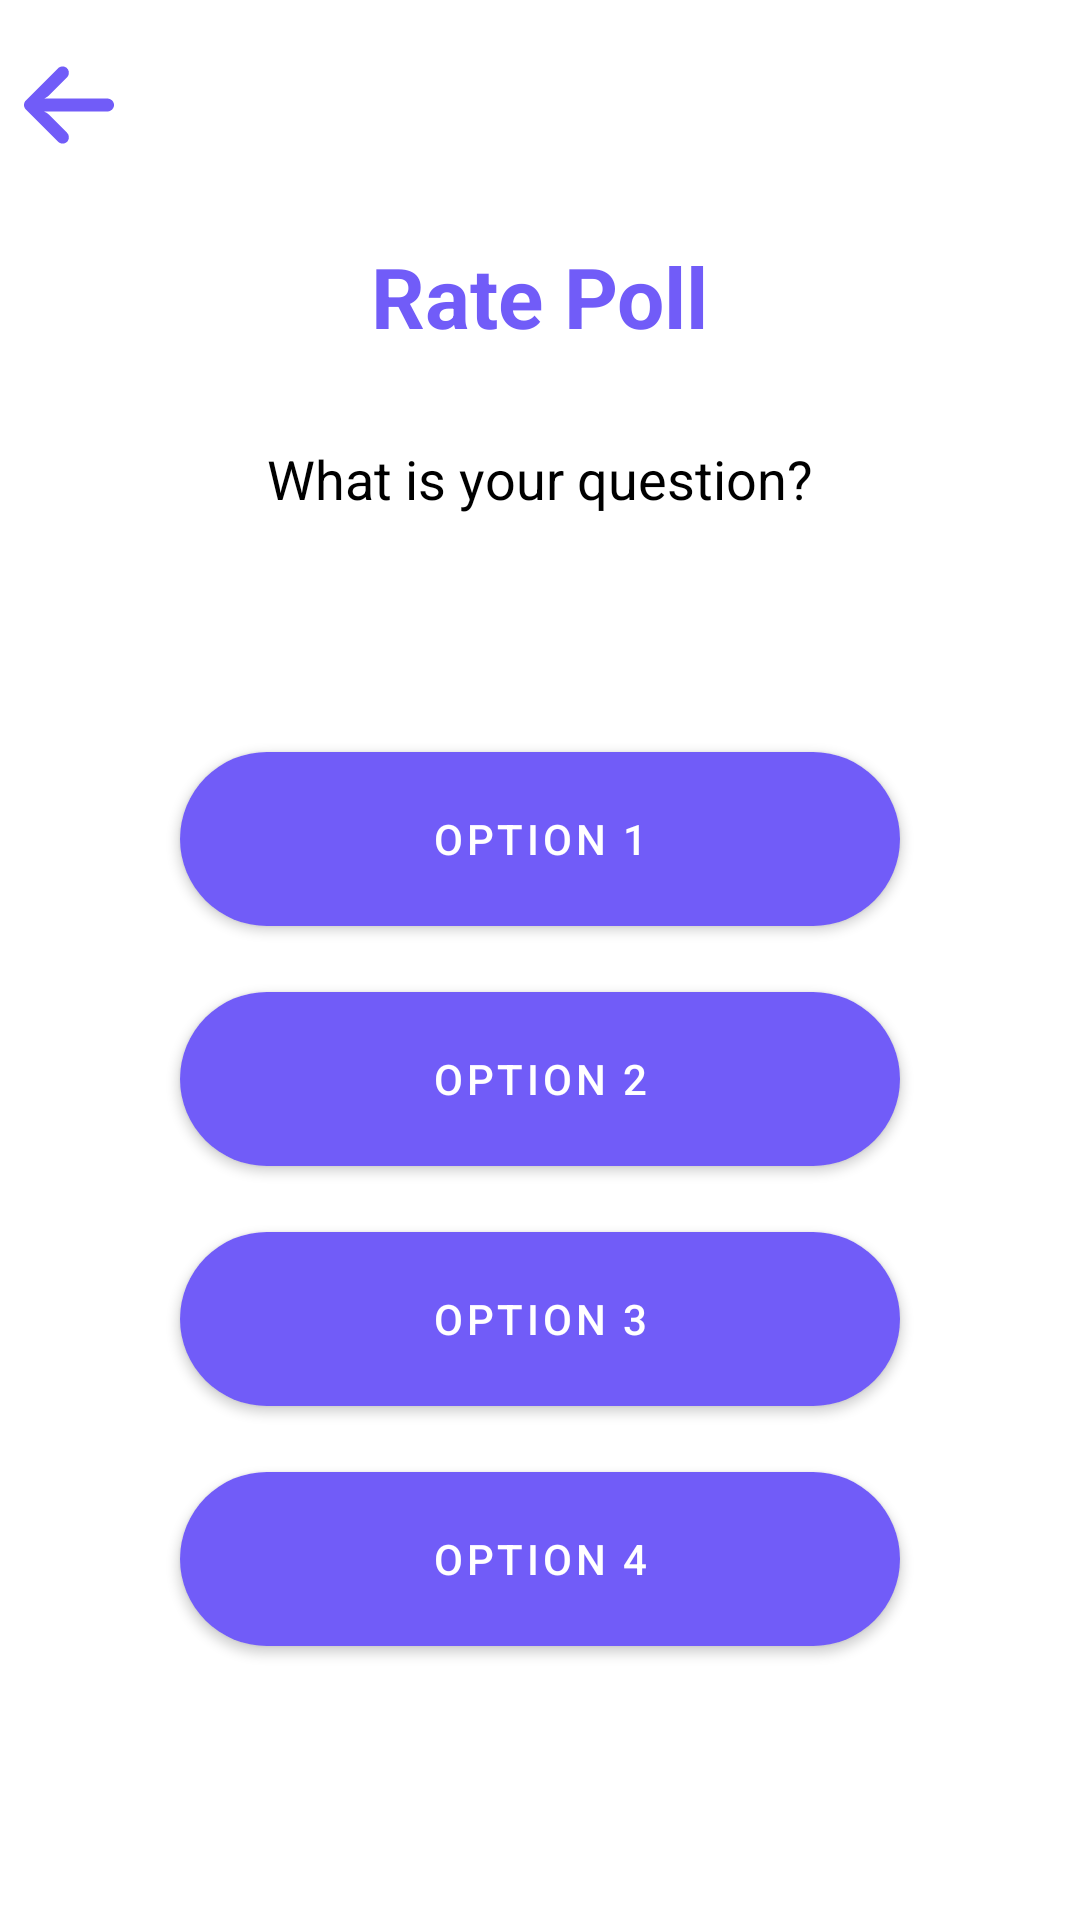

Icon bounding boxes for this 1080*1920 phone screenshot, format (x1, y1, x2, y2):
arrow: (24, 66, 114, 144)
